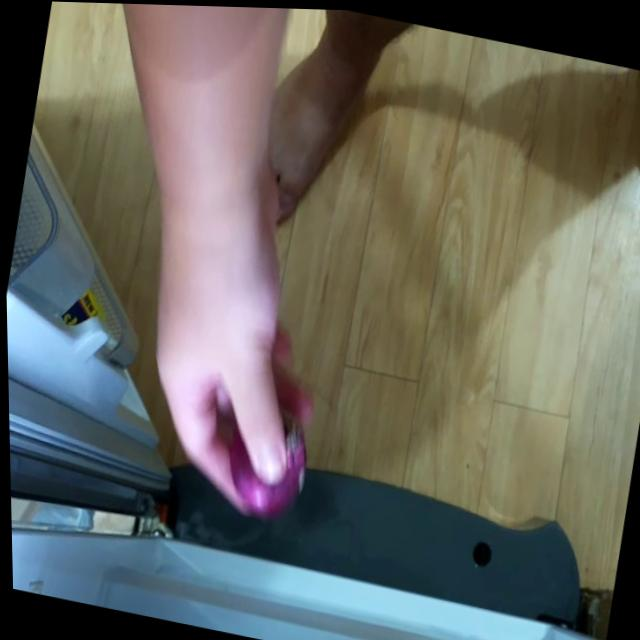onion: (211, 386, 323, 524)
